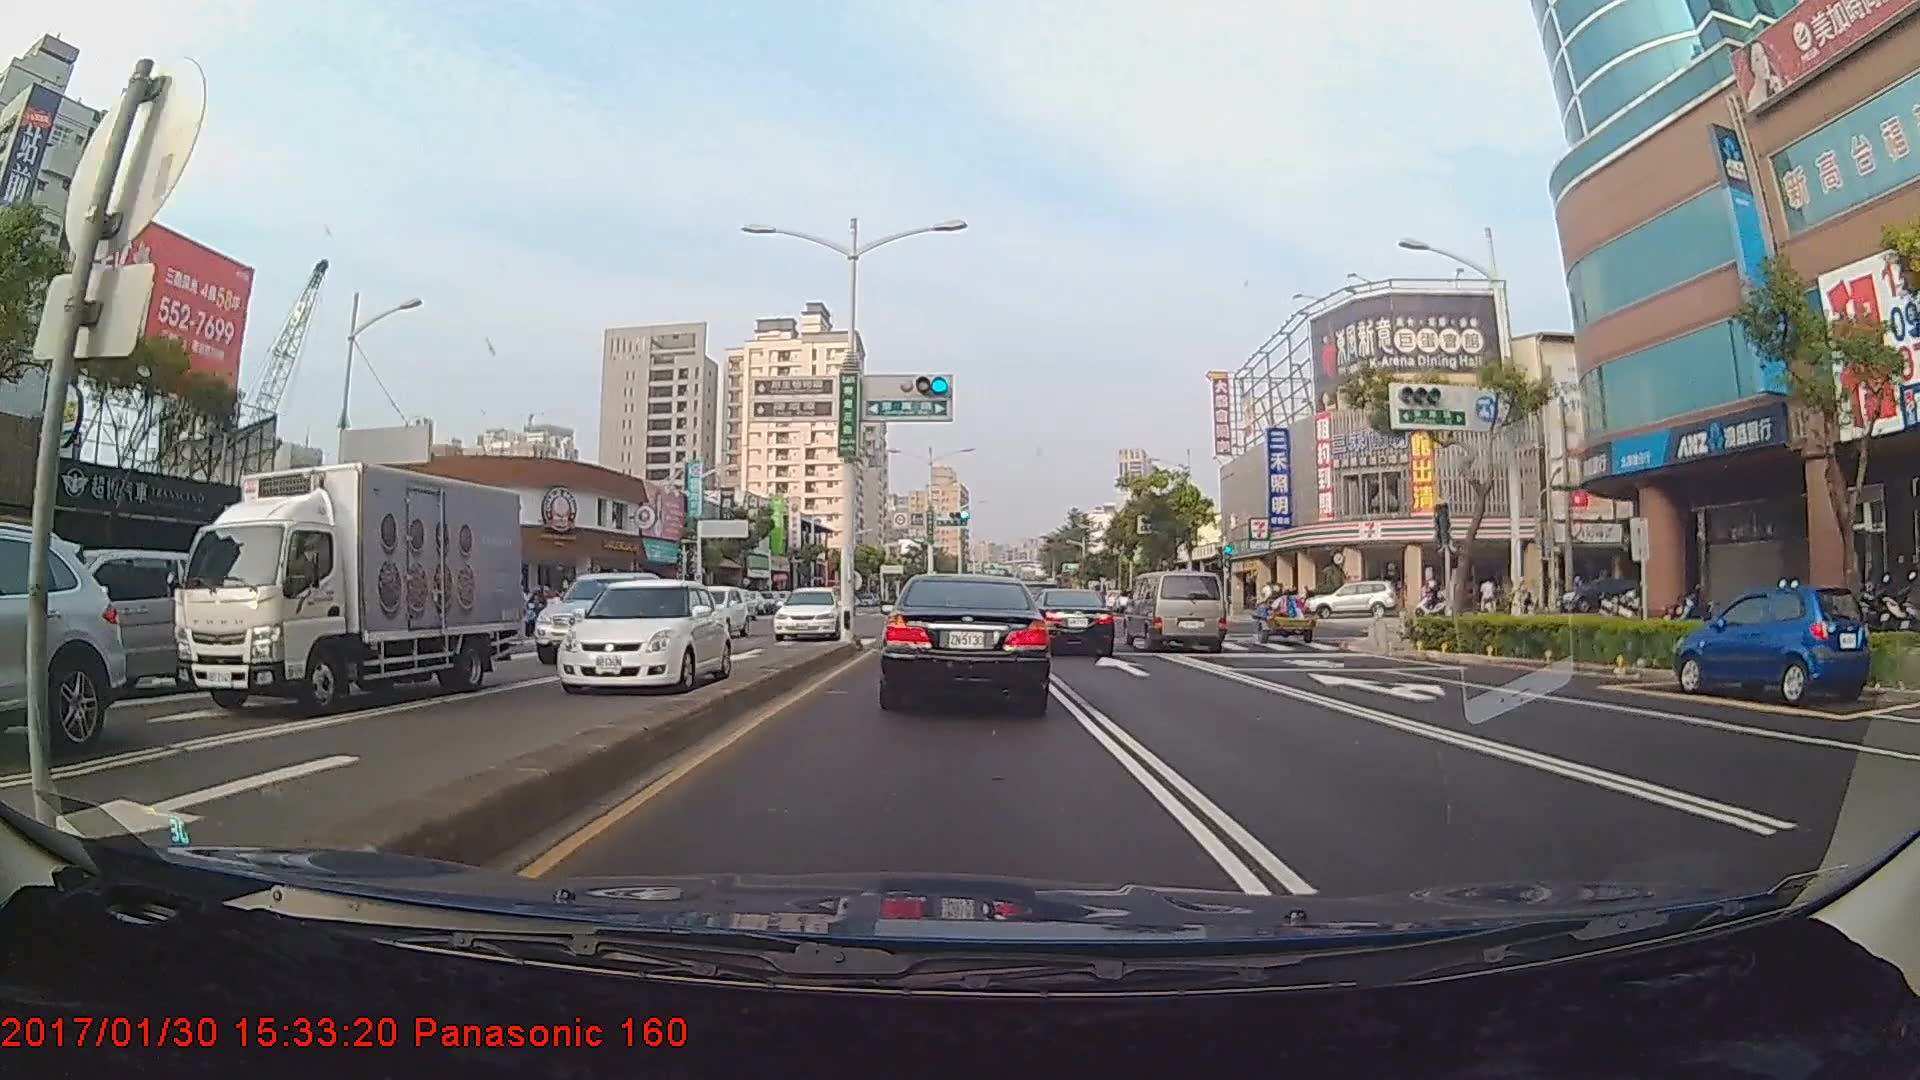vehicle: (162, 452, 530, 721), (0, 520, 120, 771), (18, 545, 216, 692), (1675, 582, 1871, 709), (882, 570, 1050, 711), (553, 578, 732, 694), (529, 566, 670, 663), (1126, 570, 1226, 651), (1031, 588, 1116, 655), (766, 584, 843, 641), (673, 583, 746, 640), (1303, 580, 1402, 620)
